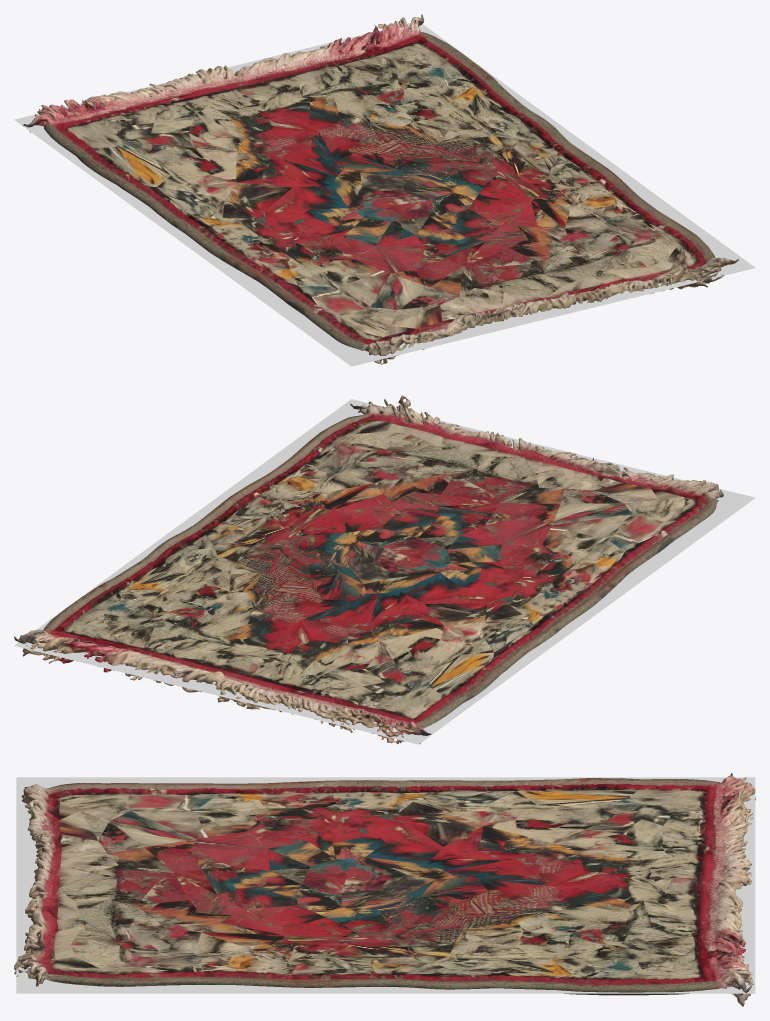
Rendered from rug_cloth.glb.
3 views of the same model, one above another, from view 1: azimuth 30°, elevation 25°; view 2: azimuth 150°, elevation 25°; view 3: azimuth 270°, elevation 25° (orthographic). The views are drawn at different scales.
Visible parts, largest first — view 1: RugSkin, RugSim; view 2: RugSkin, RugSim; view 3: RugSkin, RugSim.
Boxes of the visible parts, <box> form: RugSkin: <box>23,14,738,364</box>; RugSim: <box>14,23,755,366</box>; RugSkin: <box>14,395,723,744</box>; RugSim: <box>14,399,755,744</box>; RugSkin: <box>14,773,755,1006</box>; RugSim: <box>16,777,755,993</box>.
Size of the model in its own units: 1.32 by 0.1332 by 1.9.
1 material, 1 textured.
